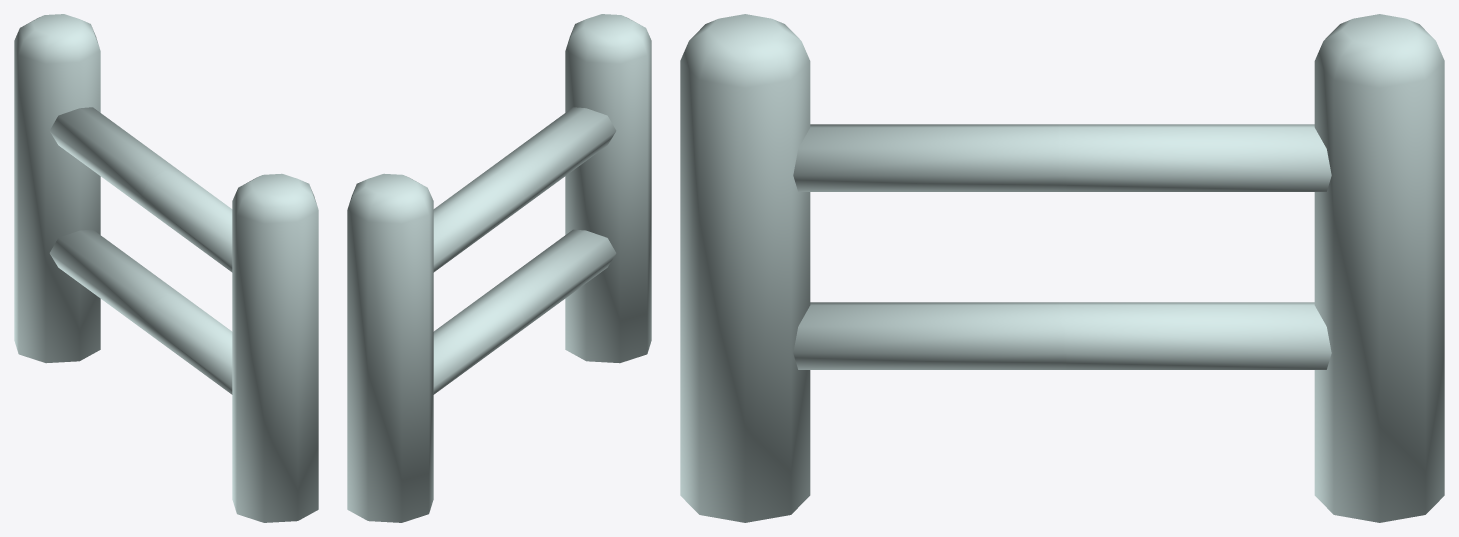
File: wooden_fence_hex.fbx
3 renders of one model, left to right at view 1: azimuth 30°, elevation 25°; view 2: azimuth 150°, elevation 25°; view 3: azimuth 270°, elevation 25°, orthographic. The views are drawn at different scales.
Parts seen in each view (by area): view 1: fence.001; view 2: fence.001; view 3: fence.001.
Boxes of the visible parts, bbox=[...] form: fence.001: bbox=[14, 14, 318, 522]; fence.001: bbox=[347, 14, 651, 522]; fence.001: bbox=[680, 14, 1444, 522].
Size of the model in its own units: 21.54 by 85.22 by 127.
